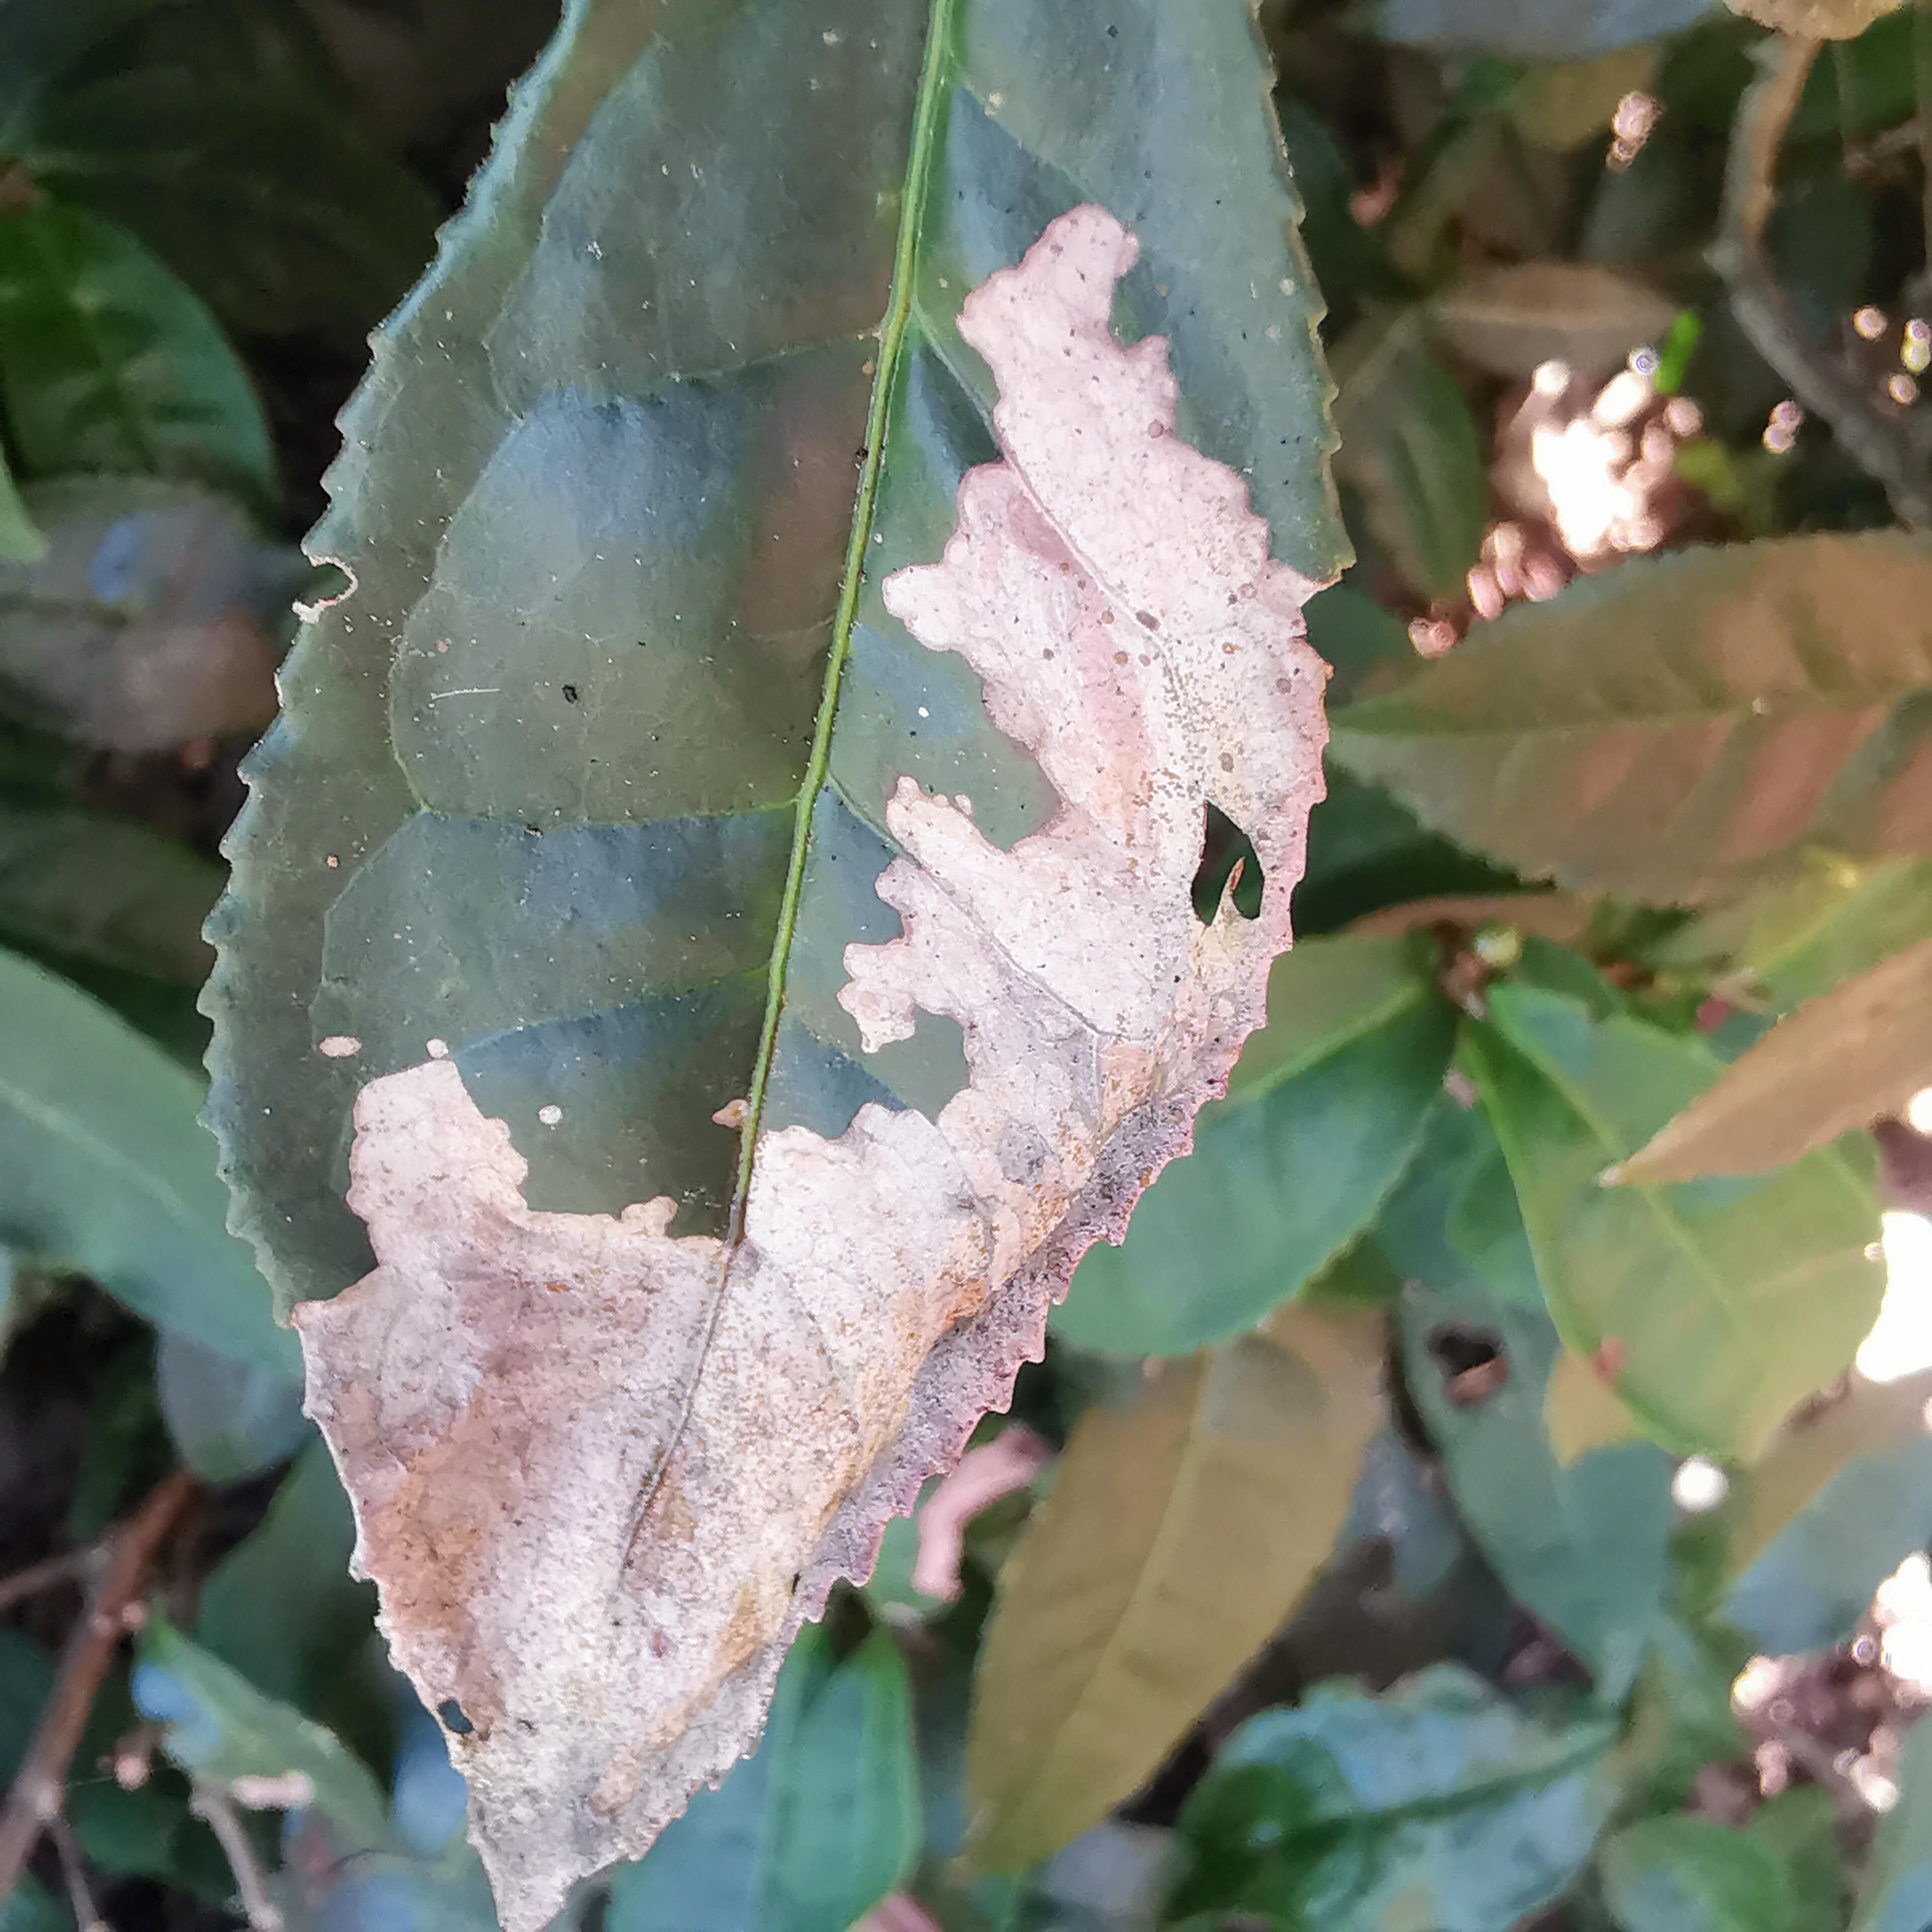tanju_high: (186, 2, 1361, 1927)
